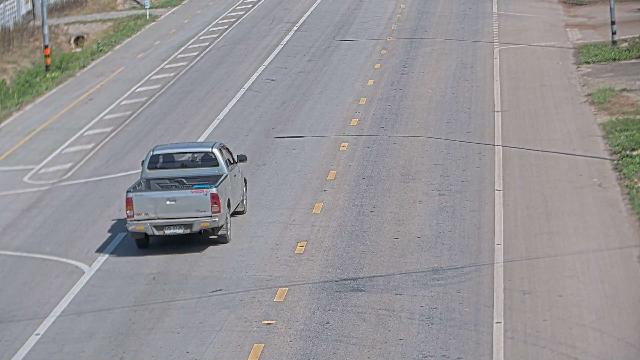pickup-truck: (124, 140, 248, 248)
